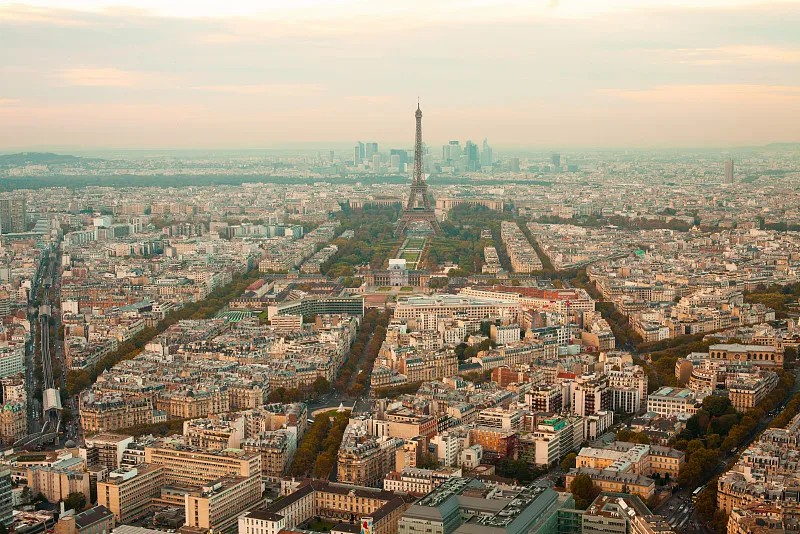Eiffel: (393, 95, 440, 240)
